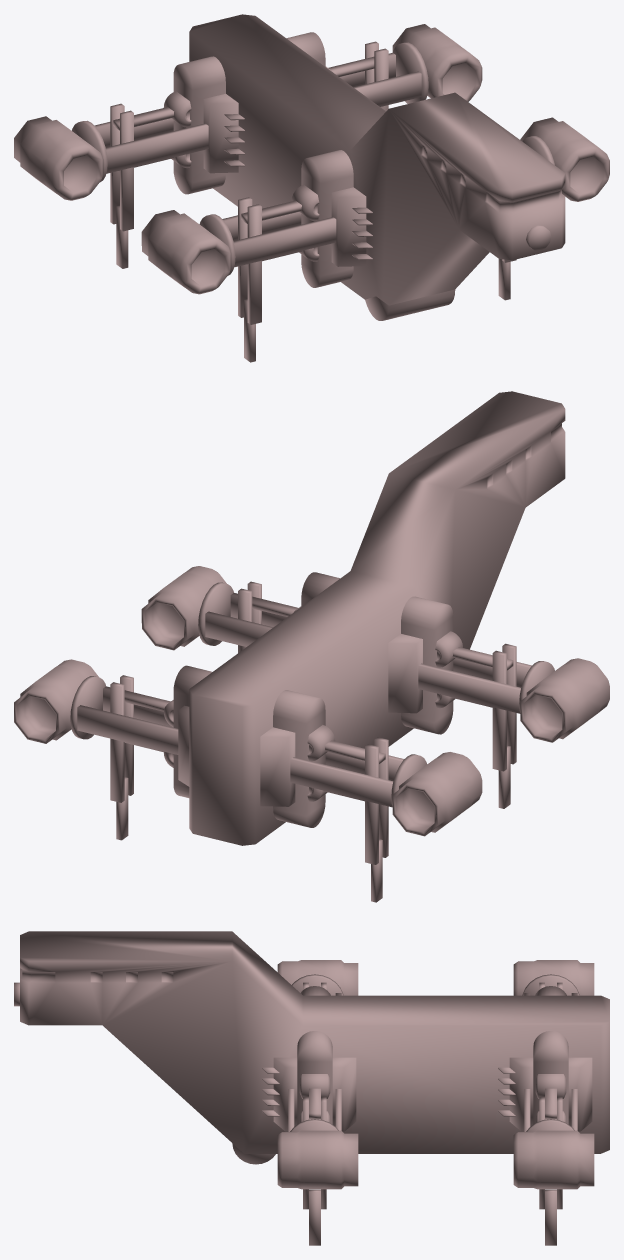
File: reynolds.obj
The picture shows the model from 3 angles, top to bottom: view 1: azimuth 30°, elevation 25°; view 2: azimuth 150°, elevation 25°; view 3: azimuth 270°, elevation 25°; orthographic projection. The views are drawn at different scales.
Visible parts, largest first — view 1: Line Segment, Cube, Cylinder, Lathe; view 2: Line Segment, Cube, Cylinder, Lathe; view 3: Line Segment, Cylinder, Cube, Lathe.
Boxes of the visible parts, box(x1,y1,x2,y2) form: Line Segment: box(189, 14, 565, 305); Cube: box(94, 32, 516, 362); Cylinder: box(14, 24, 609, 320); Lathe: box(163, 66, 333, 261); Line Segment: box(189, 391, 565, 845); Cube: box(77, 572, 531, 902); Cylinder: box(14, 566, 609, 836); Lathe: box(164, 606, 462, 801); Line Segment: box(20, 931, 609, 1153); Cylinder: box(14, 960, 594, 1189); Cube: box(262, 982, 592, 1245); Lathe: box(299, 1074, 566, 1122).
Size of the model in its own units: 38.82 by 22.5 by 50.5.
